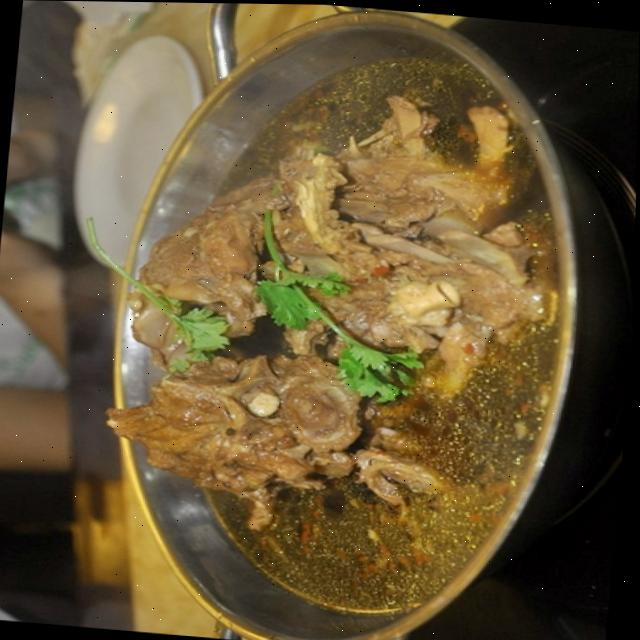汤锅炖物: (57, 1, 623, 640)
